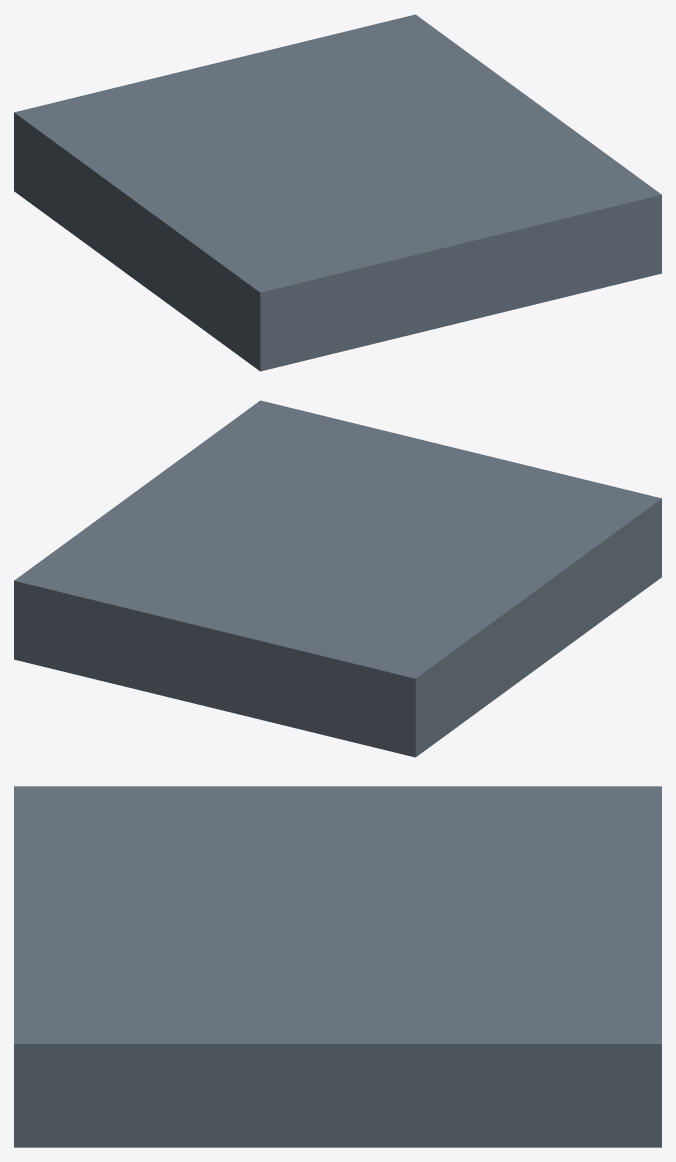
Rendered from step_02.glb.
3 views of the same model, one above another, from view 1: azimuth 30°, elevation 25°; view 2: azimuth 150°, elevation 25°; view 3: azimuth 270°, elevation 25° (orthographic). The views are drawn at different scales.
Parts seen in each view (by area): view 1: part__life vest pouch; view 2: part__life vest pouch; view 3: part__life vest pouch.
Boxes of the visible parts, <box> form: part__life vest pouch: <box>14,14,661,371</box>; part__life vest pouch: <box>14,400,661,757</box>; part__life vest pouch: <box>14,786,661,1147</box>.
Bounding box in the file's own units: 320 × 60 × 340.
